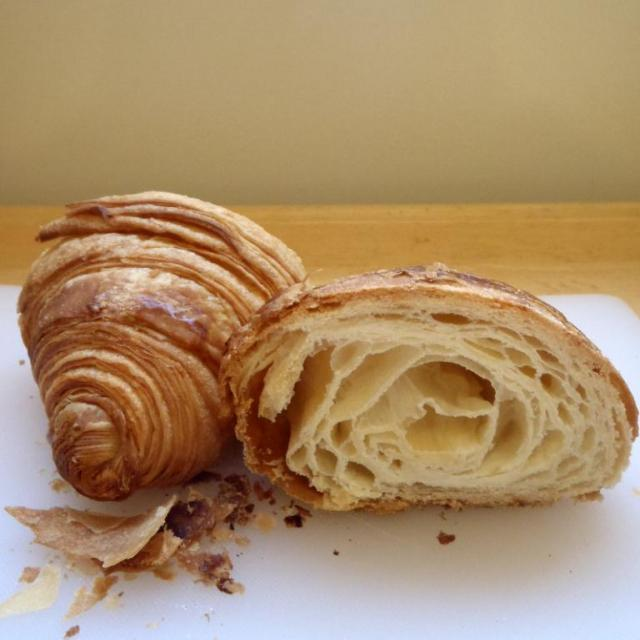Croissant: (219, 265, 640, 514), (13, 192, 312, 506)
